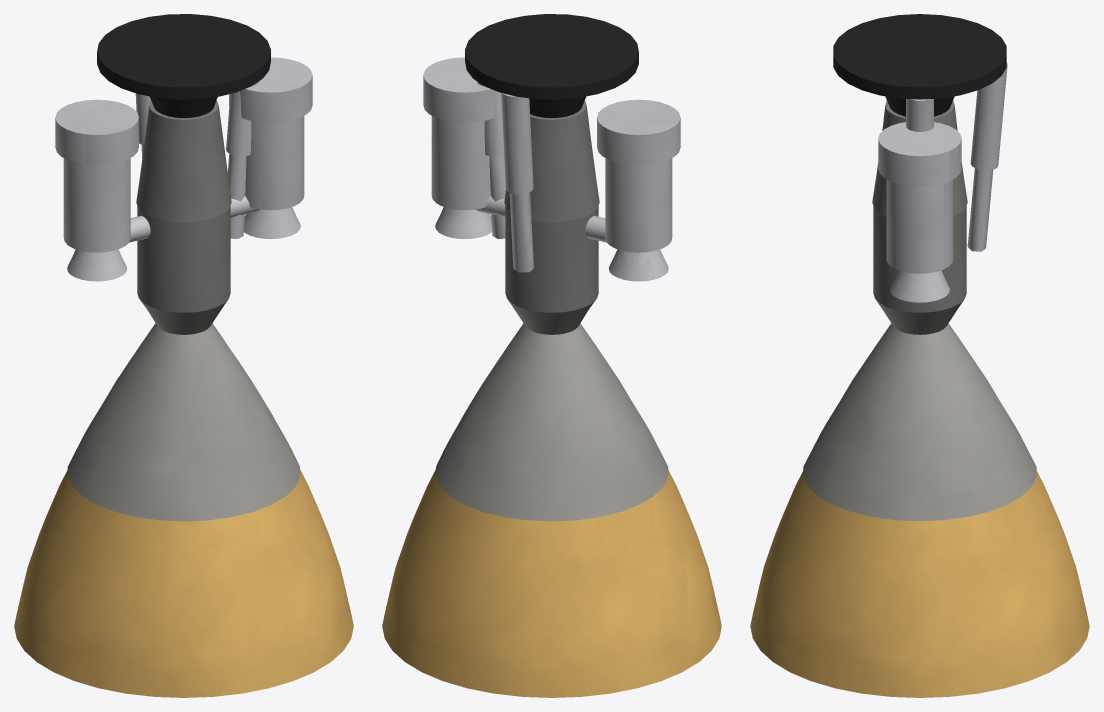
Rendered from prop14_mav_engine.glb.
3 views of the same model, side by side, from view 1: azimuth 30°, elevation 25°; view 2: azimuth 150°, elevation 25°; view 3: azimuth 270°, elevation 25° (orthographic).
Visible parts, largest first — view 1: nozzle_extension, nozzle, turbopumps, gimbal_mount, chamber, injector_dome, gimbal_actuators, ducts; view 2: nozzle_extension, nozzle, turbopumps, gimbal_mount, chamber, injector_dome, gimbal_actuators, ducts; view 3: nozzle_extension, nozzle, gimbal_mount, turbopumps, chamber, gimbal_actuators, injector_dome.
Boxes of the visible parts, left/top/right/bottom form: nozzle_extension: left=14, top=470, right=353, bottom=697; nozzle: left=67, top=323, right=300, bottom=521; turbopumps: left=55, top=57, right=312, bottom=281; gimbal_mount: left=97, top=14, right=270, bottom=118; chamber: left=137, top=206, right=230, bottom=334; injector_dome: left=136, top=100, right=231, bottom=222; gimbal_actuators: left=135, top=81, right=258, bottom=238; ducts: left=129, top=196, right=260, bottom=242; nozzle_extension: left=382, top=470, right=721, bottom=697; nozzle: left=435, top=323, right=668, bottom=521; turbopumps: left=423, top=57, right=680, bottom=281; gimbal_mount: left=465, top=14, right=638, bottom=118; chamber: left=505, top=206, right=598, bottom=334; injector_dome: left=504, top=101, right=599, bottom=222; gimbal_actuators: left=477, top=81, right=533, bottom=272; ducts: left=475, top=196, right=606, bottom=242; nozzle_extension: left=750, top=471, right=1089, bottom=697; nozzle: left=803, top=323, right=1036, bottom=521; gimbal_mount: left=833, top=14, right=1006, bottom=116; turbopumps: left=878, top=100, right=961, bottom=302; chamber: left=873, top=206, right=966, bottom=334; gimbal_actuators: left=906, top=62, right=1007, bottom=251; injector_dome: left=872, top=101, right=967, bottom=216.
Size of the model in its own units: 1.02 by 1.9 by 1.02.
5 materials, 4 textured.
